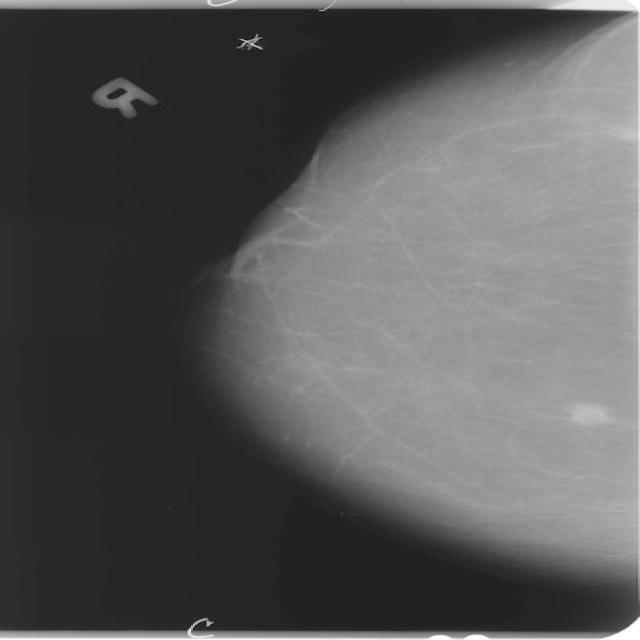tumour: (564, 401, 610, 425)
